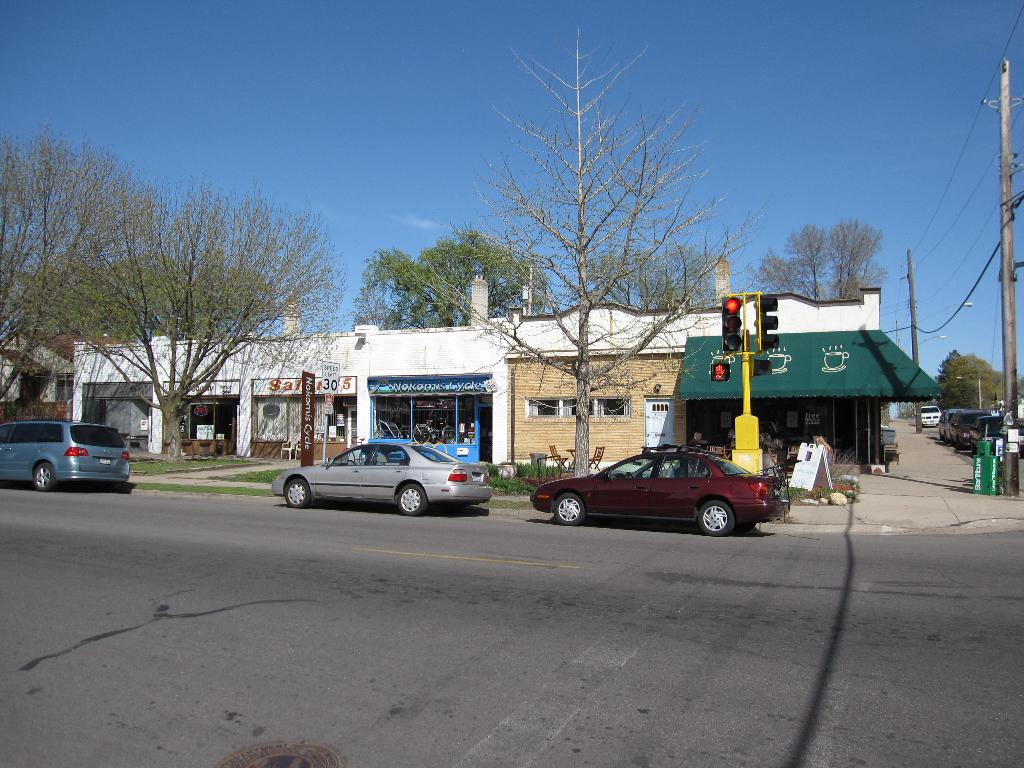Car: (509, 437, 786, 536), (281, 441, 490, 520), (0, 419, 135, 495), (919, 405, 933, 420)
